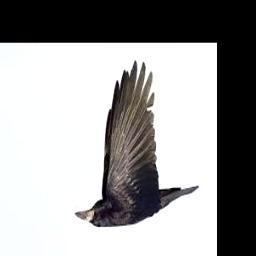Crow: (74, 64, 198, 228)
